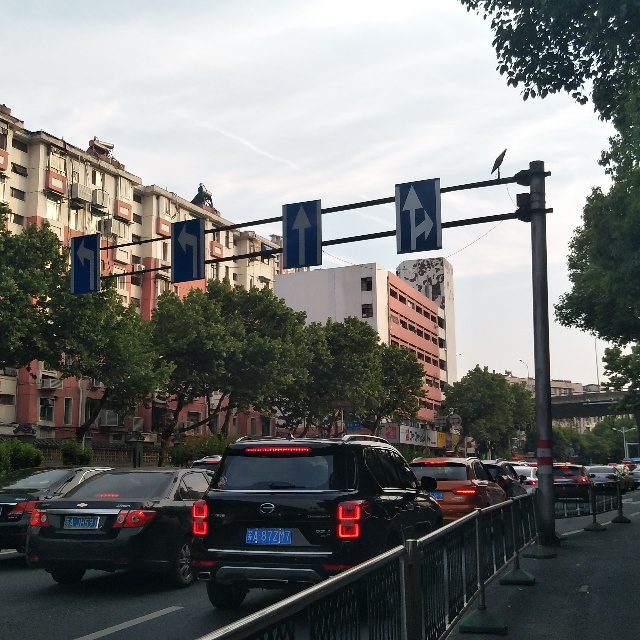left: (170, 222, 202, 279), (72, 239, 100, 290)
straight: (288, 202, 317, 270)
